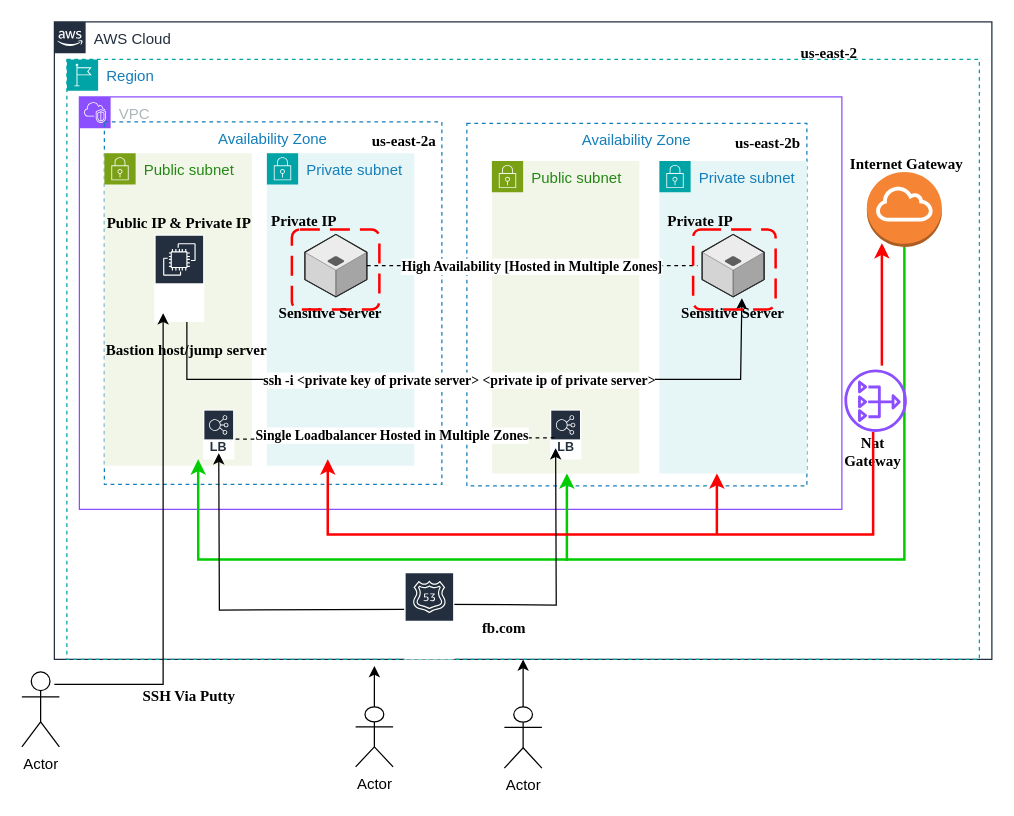
Image size: 1014x816. Some labels were removed from this diagram. The shapes that lost their labels are listed below. From the top down, each one's centre as x and y in pixels, then its label:
(x=178, y=277): Amazon EC2
(x=428, y=615): Amazon Route 53
